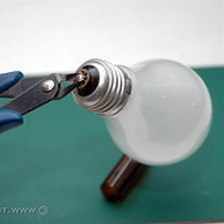light_bulb: (67, 54, 218, 171)
